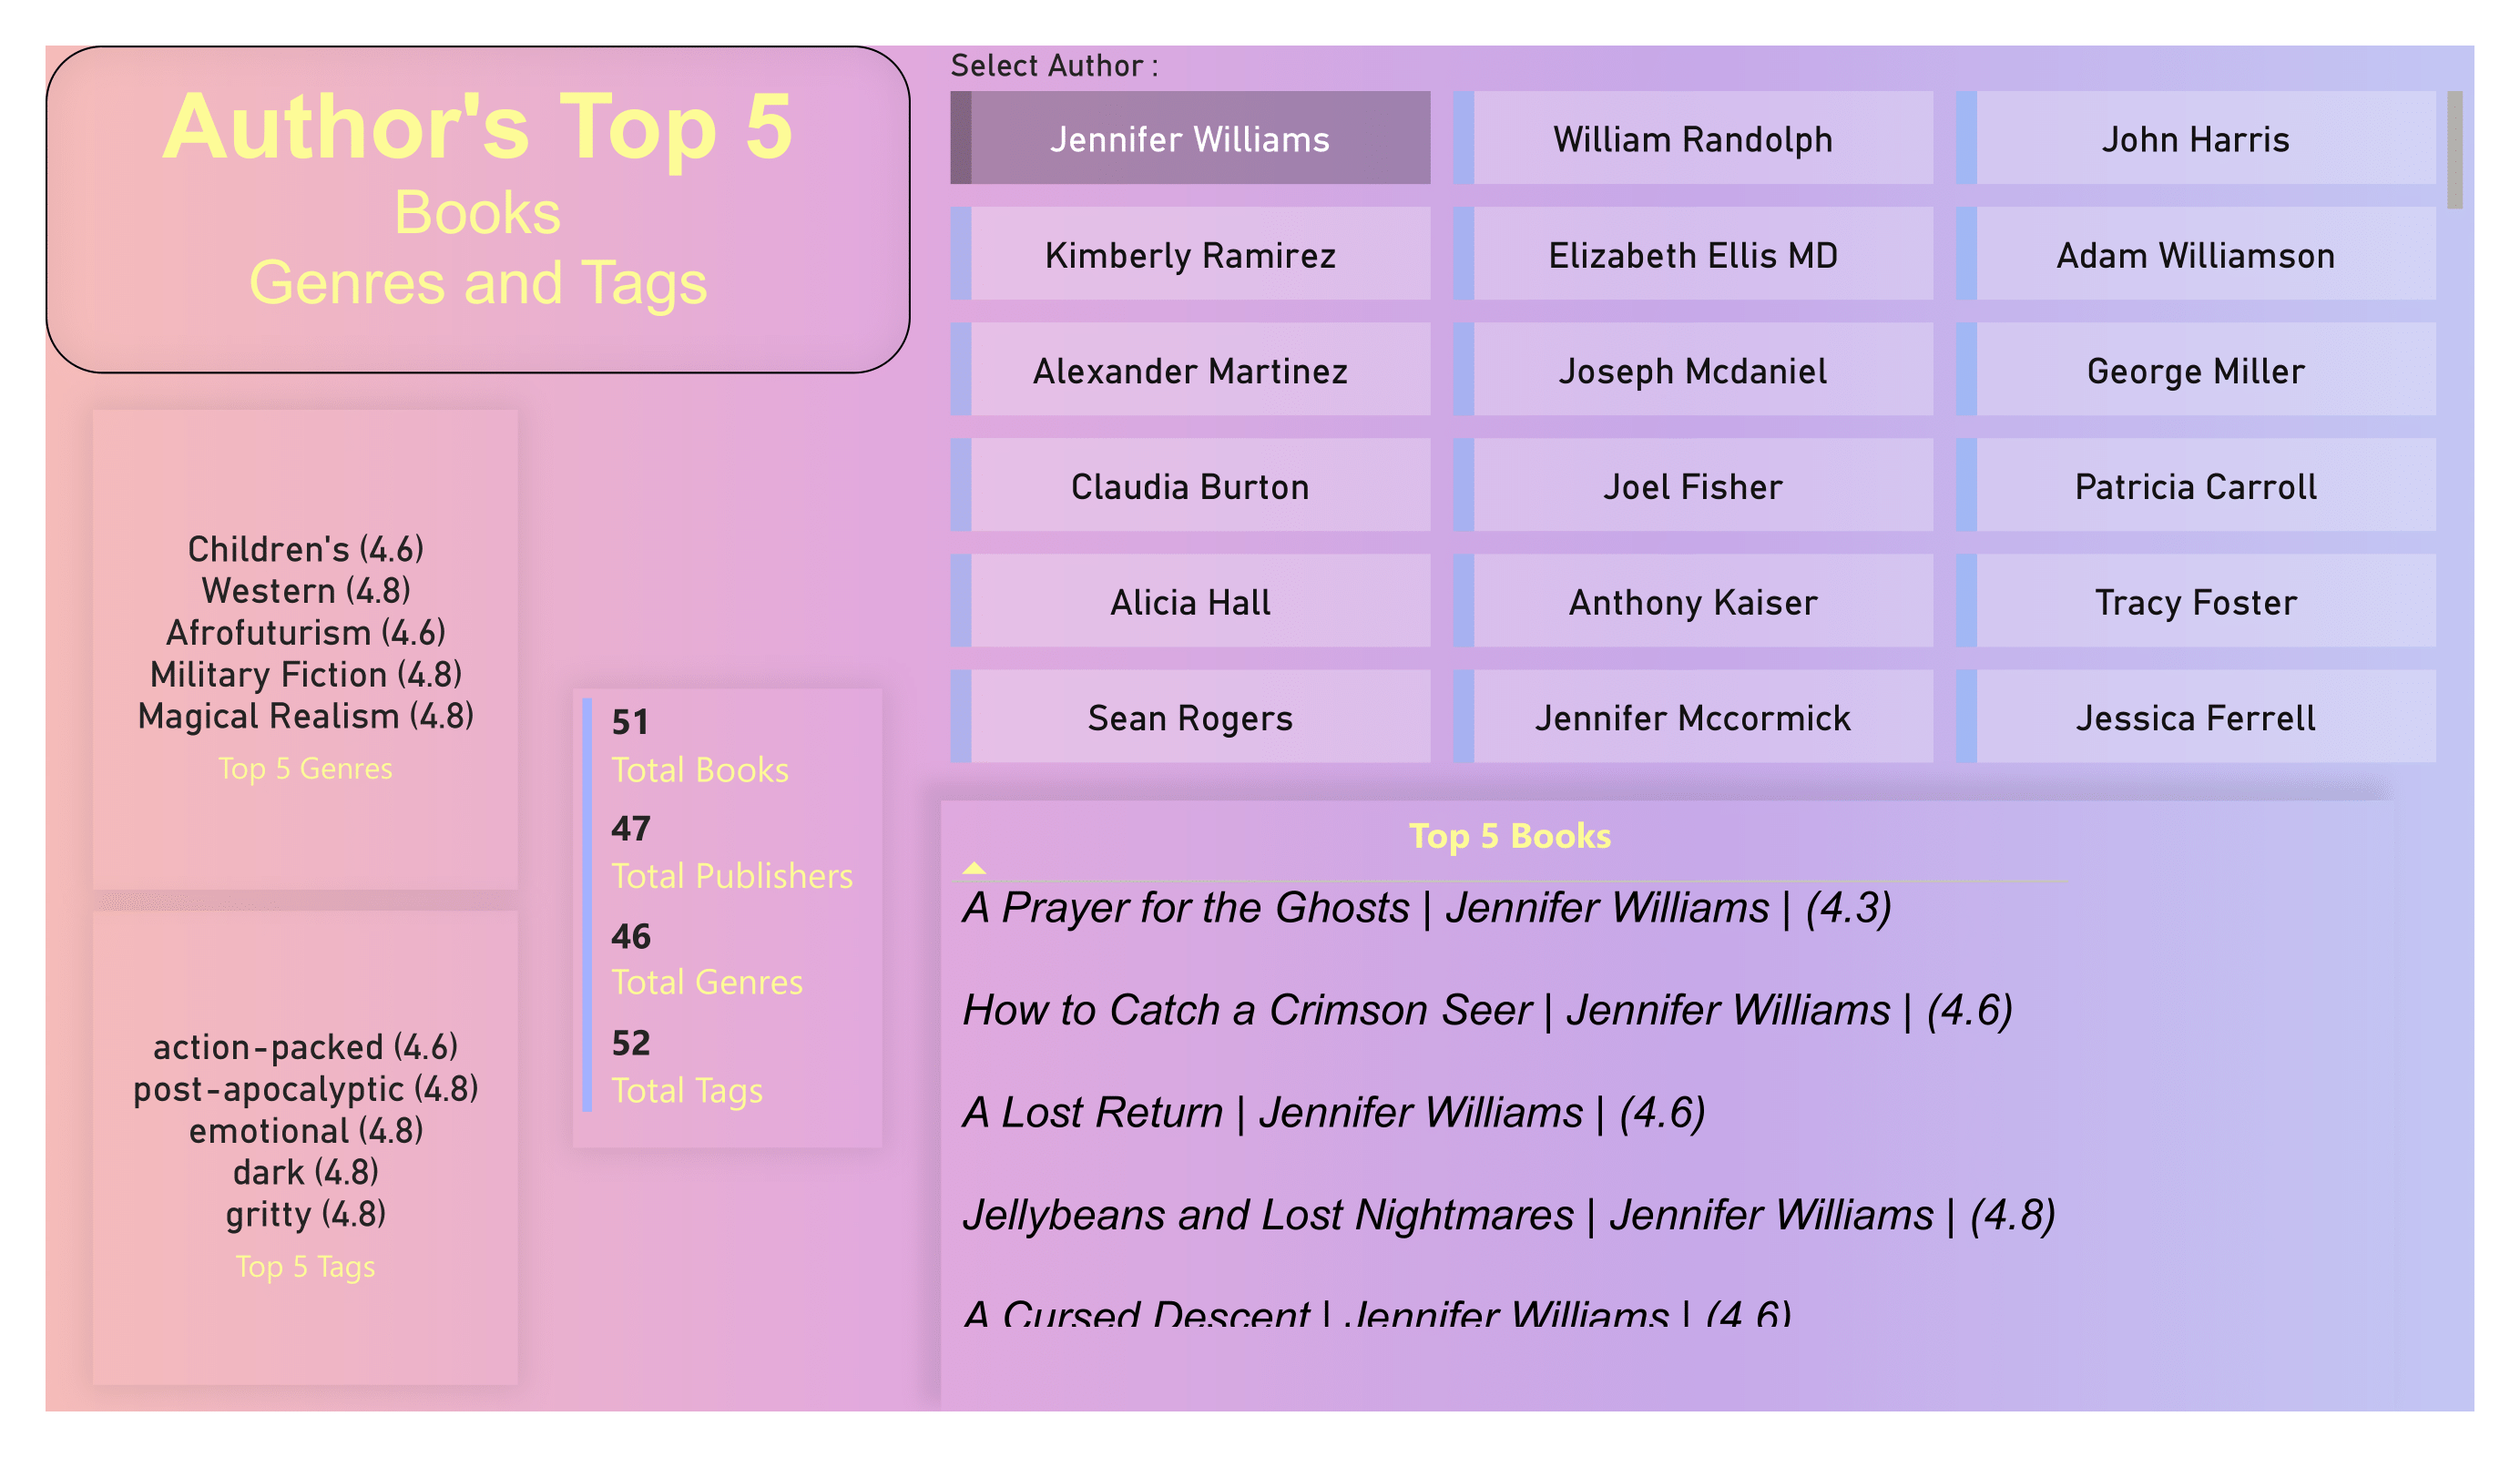

The page's visual inventory and layout, read from the dashboard file:
{"tool":"powerbi","page":{"name":"Top 5 Books according to Author","canvas":[1280,720],"ordinal":3},"visuals":[{"type":"tableEx","fields":{"Values":["books_final.Top5BooksWithRatingAndAuthor"]},"box":[472,398,766,322],"z":0},{"type":"card","fields":{"Values":["books_final.Top 5 Genres"]},"box":[25,192.2,223.5,253.2],"z":1000},{"type":"card","fields":{"Values":["books_final.Top 5 Tags"]},"box":[25,456.4,223.5,250.1],"z":2000},{"type":"advancedSlicerVisual","title":"Select Author :","fields":{"Values":["books_final.author"]},"box":[472,0,807.4,385.6],"z":3000},{"type":"textbox","box":[0,0,456.4,172.9],"z":4000},{"type":"multiRowCard","fields":{"Values":["books_final.Total Titles","books_final.Total Publishers","books_final.Total Genres","books_final.Total Tags"]},"box":[278.2,339.2,162.6,242.3],"z":5000}]}

Visuals, with their boxes on the page's 1280x720 design canvas (x1, y1, x2, y2). These are canvas units, not pixel positions in the 2520x1457 screenshot, which may show the page scaled, cropped or inside an application window:
tableEx - books_final.Top5BooksWithRatingAndAuthor: (left=472, top=398, right=1238, bottom=720)
card - books_final.Top 5 Genres: (left=25, top=192, right=248, bottom=445)
card - books_final.Top 5 Tags: (left=25, top=456, right=248, bottom=706)
"Select Author :" advancedSlicerVisual: (left=472, top=0, right=1279, bottom=386)
textbox: (left=0, top=0, right=456, bottom=173)
multiRowCard - books_final.Total Titles x books_final.Total Publishers: (left=278, top=339, right=441, bottom=582)
